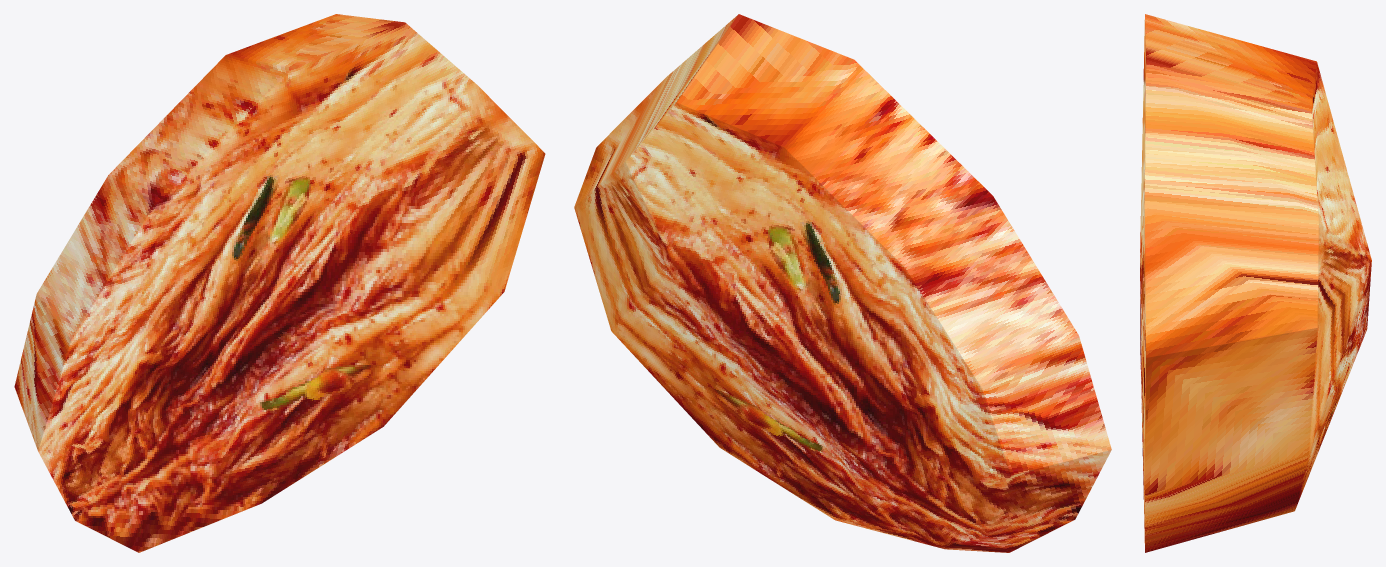
Rendered from kimchi.glb.
3 views of the same model, side by side, from view 1: azimuth 30°, elevation 25°; view 2: azimuth 150°, elevation 25°; view 3: azimuth 270°, elevation 25° (orthographic). The views are drawn at different scales.
Parts seen in each view (by area): view 1: kimchi; view 2: kimchi; view 3: kimchi.
Boxes of the visible parts, box(x1,y1,x2,y2) form: kimchi: box(14, 14, 545, 552); kimchi: box(574, 14, 1111, 552); kimchi: box(1140, 14, 1371, 552).
Size of the model in its own units: 0.4004 by 0.3511 by 0.1251.
Materials: 1 (1 with a texture image).
